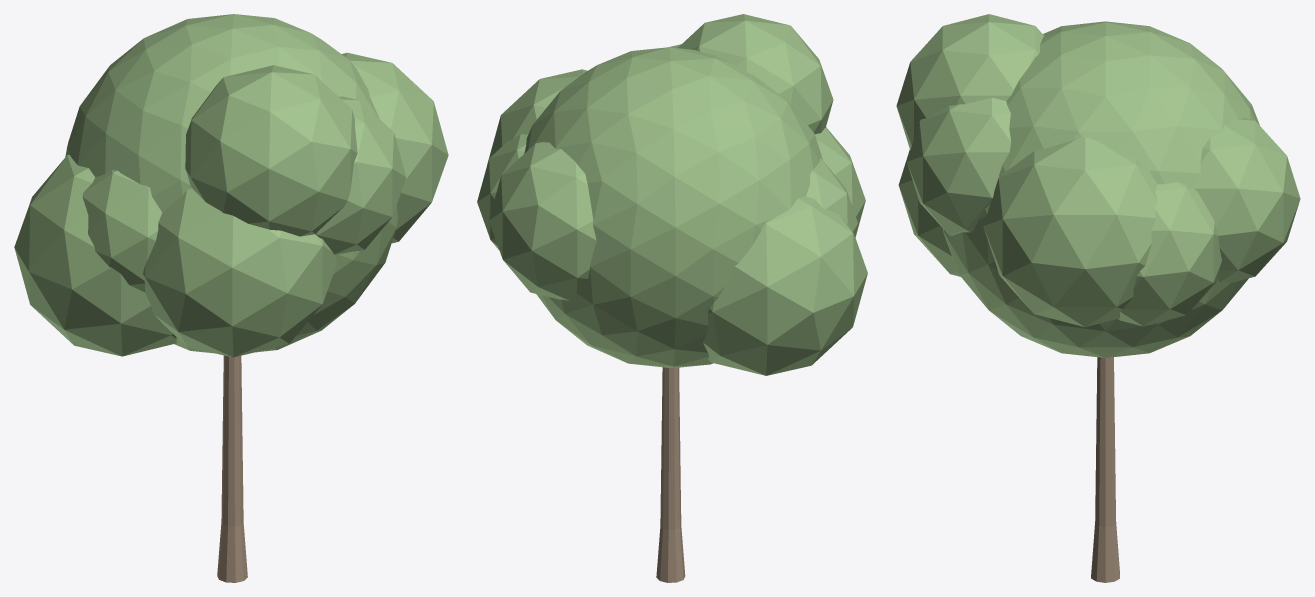
File: tree.glb
3 views of the same model, side by side, from view 1: azimuth 30°, elevation 25°; view 2: azimuth 150°, elevation 25°; view 3: azimuth 270°, elevation 25° (orthographic). The views are drawn at different scales.
Parts seen in each view (by area): view 1: tree_leaf, tree_bark; view 2: tree_leaf, tree_bark; view 3: tree_leaf, tree_bark.
Part boxes in pixels (x1,y1,x2,y2): tree_leaf: (14,14,448,357); tree_bark: (217,355,247,582); tree_leaf: (477,14,867,375); tree_bark: (656,367,685,582); tree_leaf: (896,14,1300,357); tree_bark: (1091,357,1119,582).
Size of the model in its own units: 5.26 by 7.1 by 4.77.
